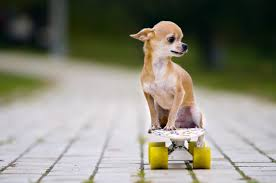chihuahua: (130, 21, 203, 129)
